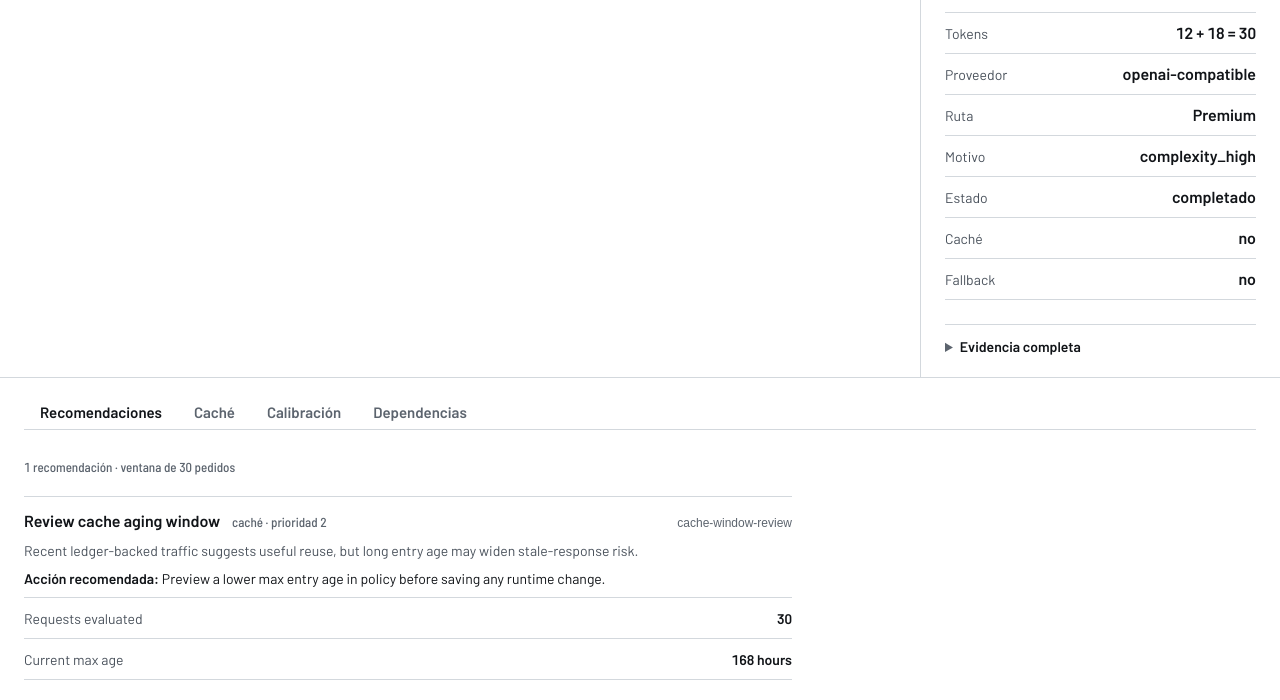
Test case: ObservabilityPage › says the gateway is unreachable in the dependencies tab
(page scrolled)
Click the tab "Dependencias" at [420, 413], box [357, 393, 483, 433]
(page scrolled)
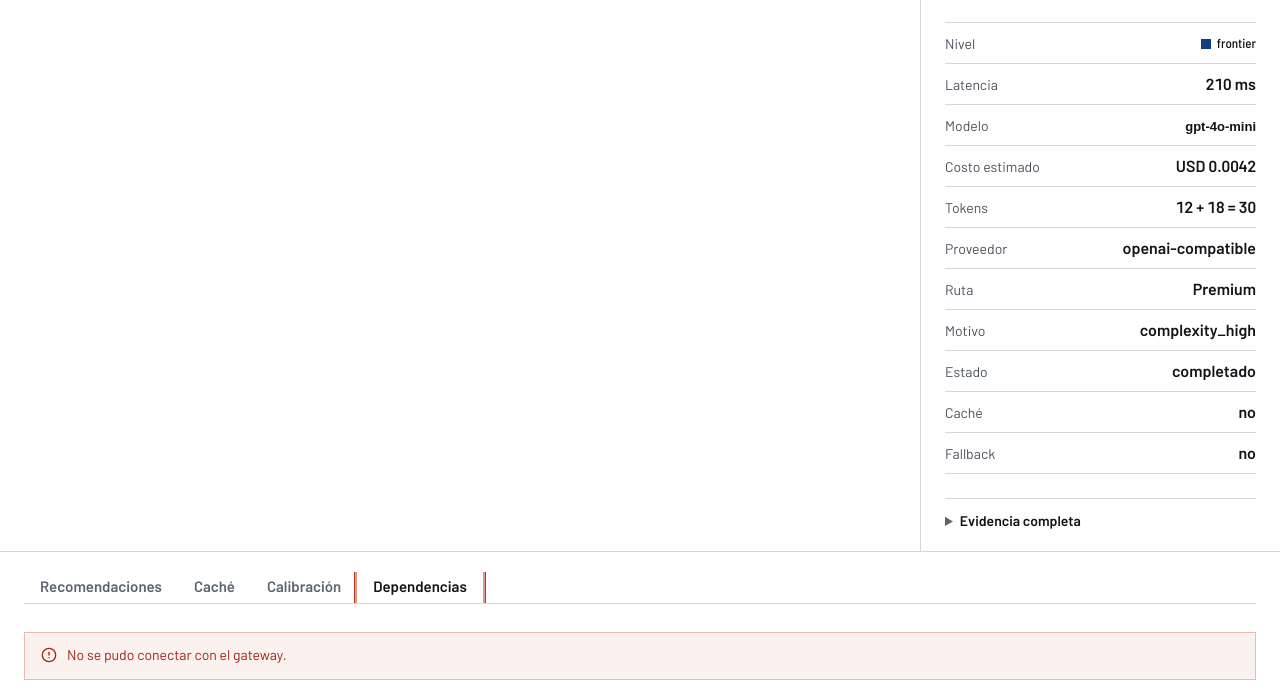
Expected: the text "No se pudo conectar con el gateway." is shown, [67, 646, 287, 663]
